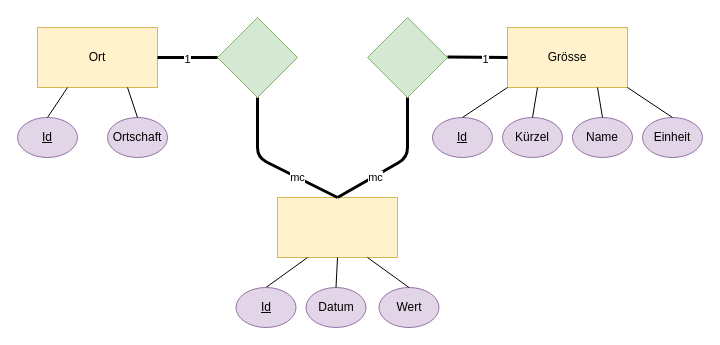
This 720x345 diagram has some shape labels left out. The centre of each missing label's shape, as x and y in pixels:
"an einem" belongs at (257,57).
"Messung" belongs at (337,227).
"von einer" belongs at (407,57).
